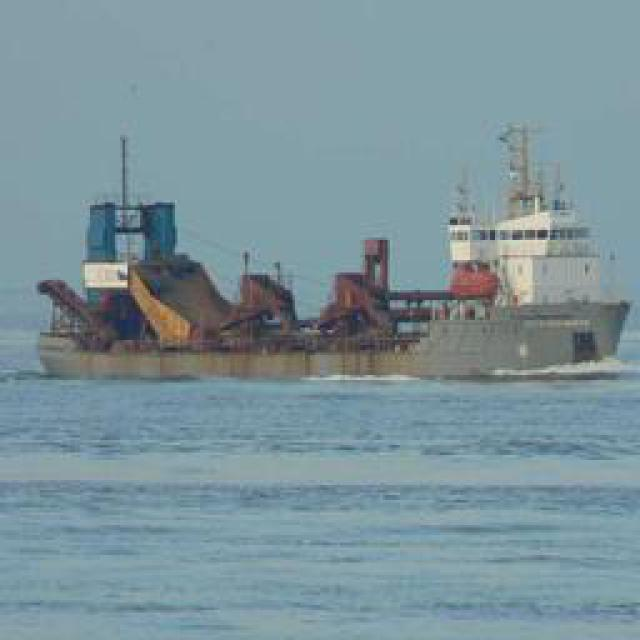Ship: (33, 299, 628, 392)
